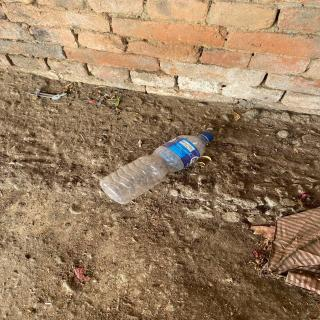Plastic-bottle: (98, 130, 219, 209)
